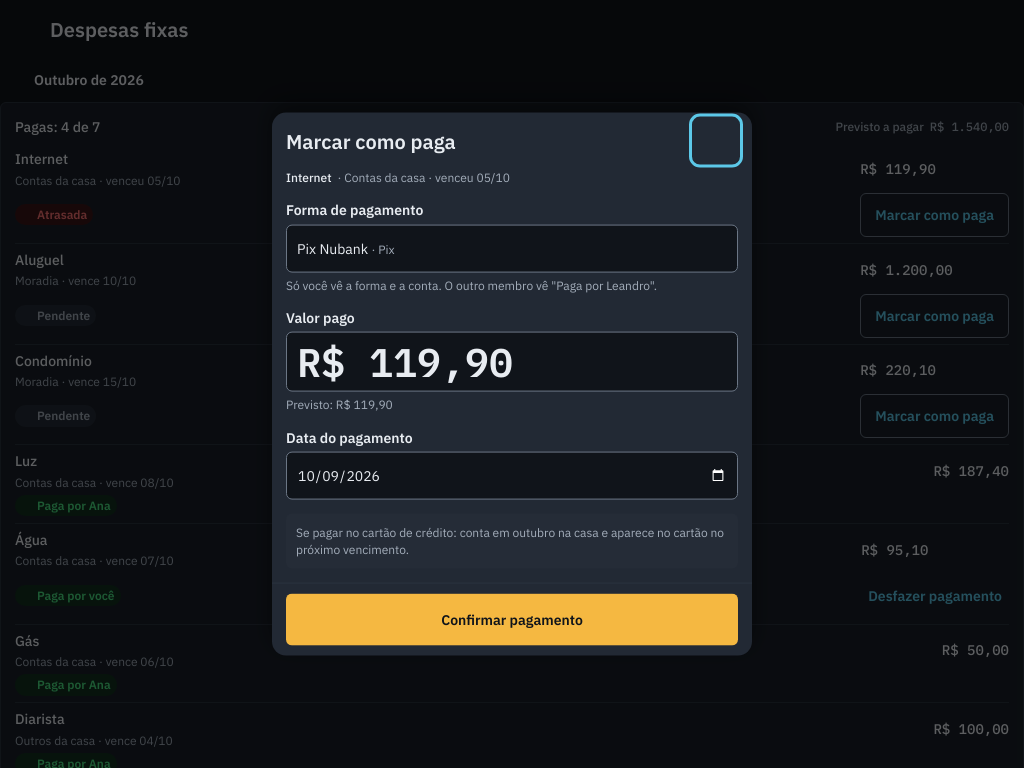
Folha "Marcar como paga": confirmar › recusa de regra (já paga pelo outro) mostra o aviso de topo e invalida ocorrencias_mes
The width and height of the screenshot is (1024, 768).
Click the button "Confirmar pagamento" at (512, 619), box [286,593,738,645]
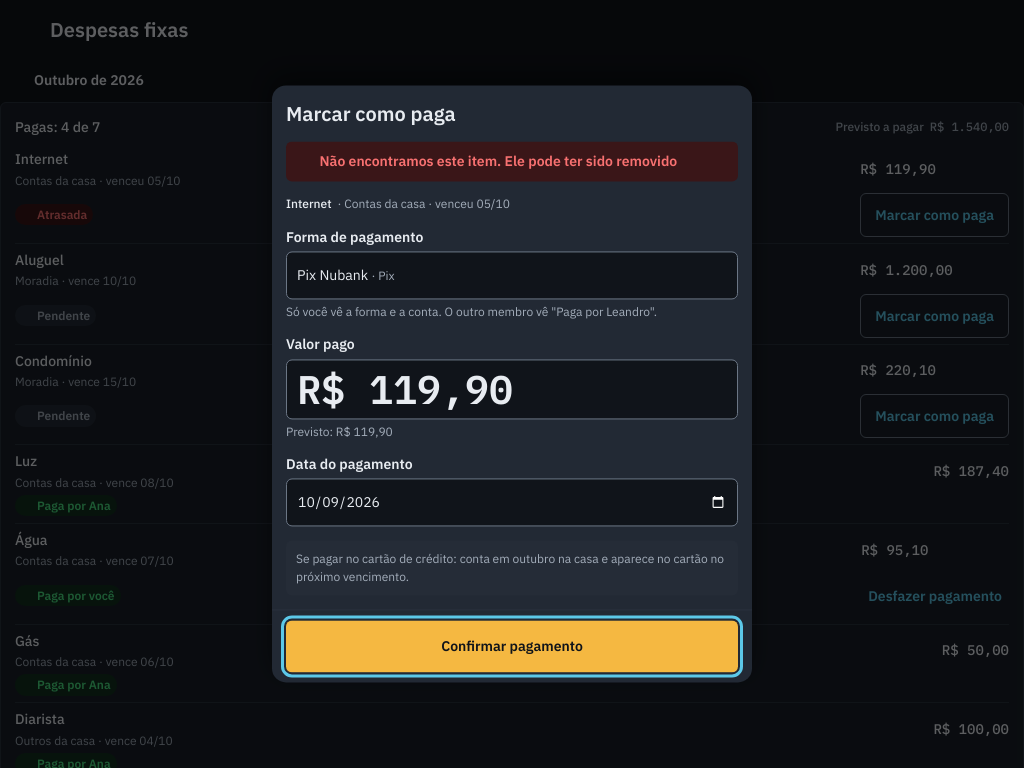
Result: the message "Não encontramos este item. Ele pode ter sido removido" is shown at [286,141,738,182]
